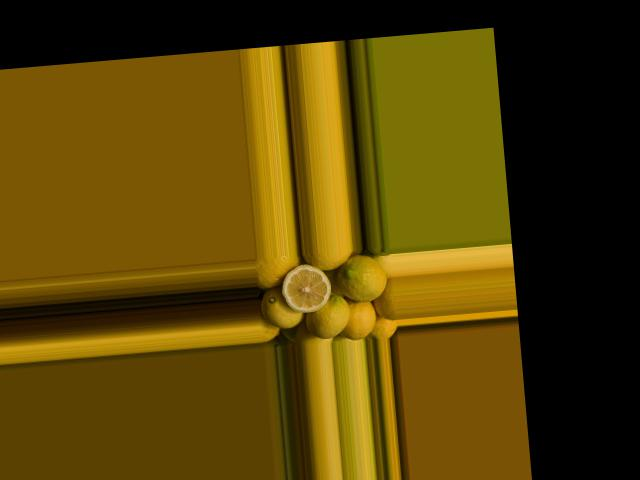lemon: (261, 288, 300, 329)
